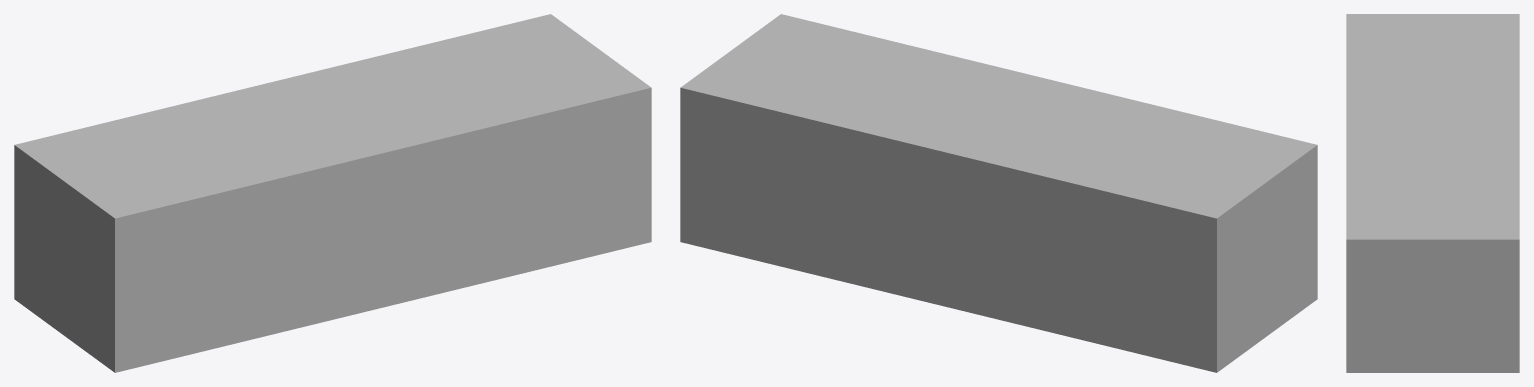
File: FlourescentLight.glb
3 renders of one model, left to right at view 1: azimuth 30°, elevation 25°; view 2: azimuth 150°, elevation 25°; view 3: azimuth 270°, elevation 25°, orthographic. The views are drawn at different scales.
Parts seen in each view (by area): view 1: LightBase; view 2: LightBase; view 3: LightBase.
Boxes of the visible parts, x1,y1,x2,y2 form: LightBase: [14, 14, 651, 372]; LightBase: [680, 14, 1317, 372]; LightBase: [1346, 14, 1519, 372].
Size of the model in its own units: 4 by 1.1 by 1.3.
Materials: 3 (2 with a texture image).
